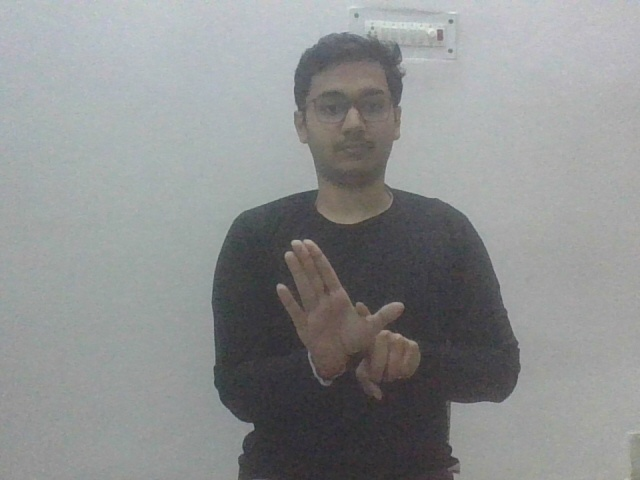Y: (271, 236, 427, 407)
